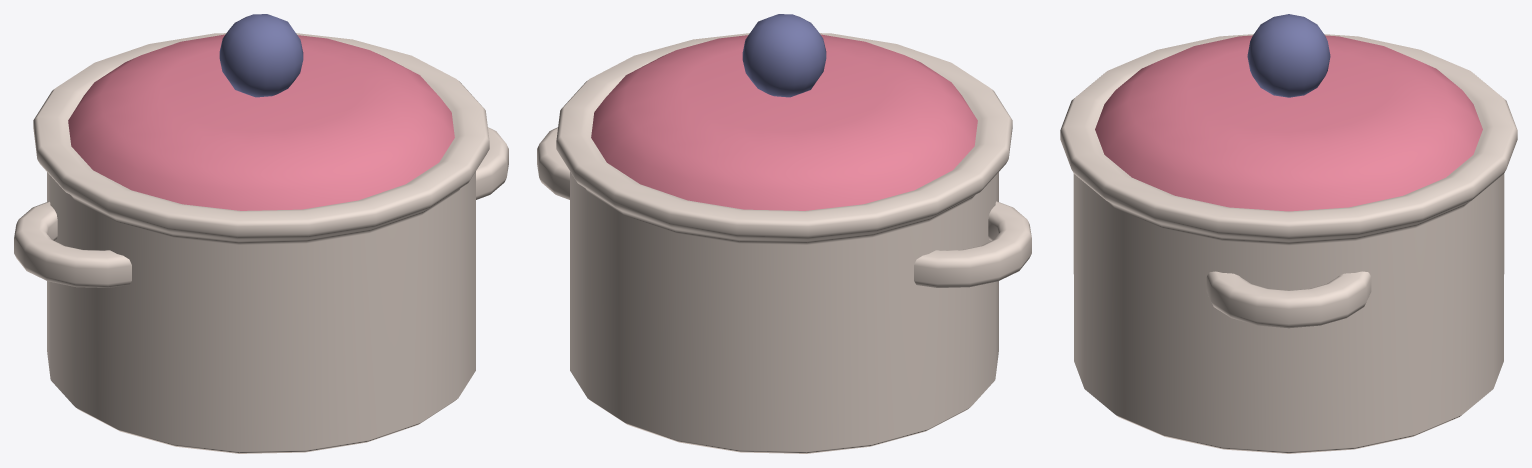
The model's file is Pot_pink.glb.
The picture shows the model from 3 angles, left to right: view 1: azimuth 30°, elevation 25°; view 2: azimuth 150°, elevation 25°; view 3: azimuth 270°, elevation 25°; orthographic projection.
Parts seen in each view (by area): view 1: Pot_1; view 2: Pot_1; view 3: Pot_1.
Part boxes in pixels (box(x1,y1,x2,y2)): Pot_1: box(14, 14, 508, 453); Pot_1: box(537, 14, 1031, 453); Pot_1: box(1060, 14, 1517, 453).
Bounding box in the file's own units: 0.581 × 0.4069 × 0.4869.
1 material, 1 textured.
